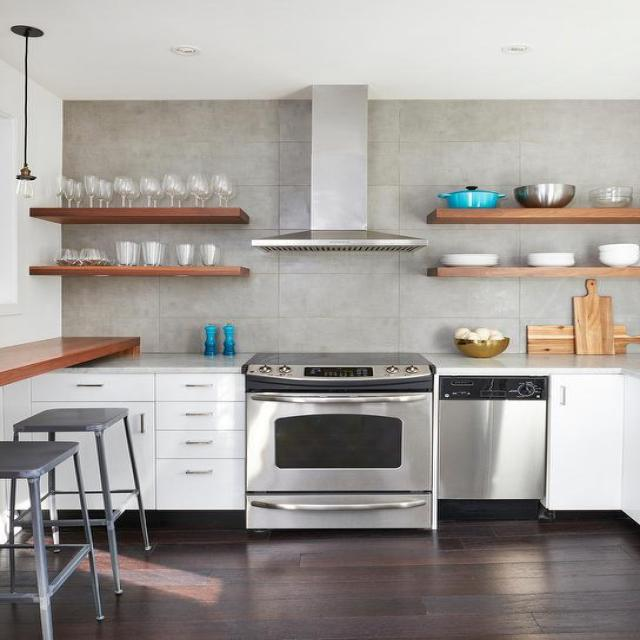dishwasher: (436, 374, 549, 516)
